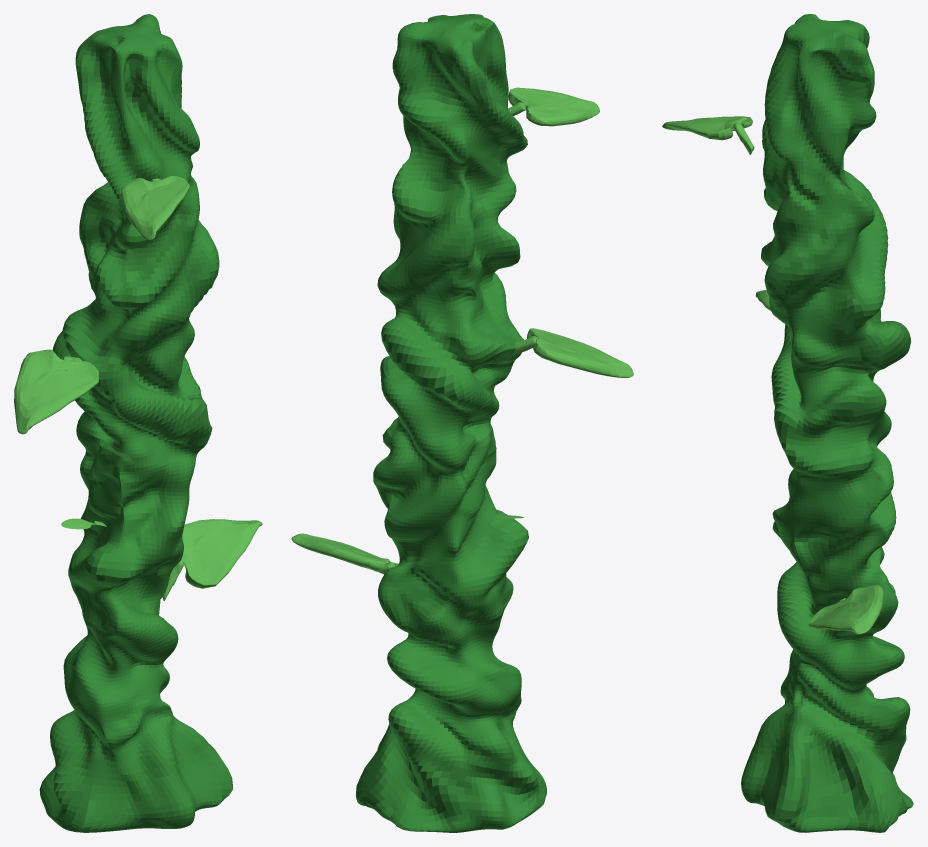
3 renders of one model, left to right at view 1: azimuth 30°, elevation 25°; view 2: azimuth 150°, elevation 25°; view 3: azimuth 270°, elevation 25°, orthographic.
Parts seen in each view (by area): view 1: Cube, 구체.002, 구체, 구체.001; view 2: Cube, 구체.002, 구체.001, 구체; view 3: Cube, 구체, 구체.001.
Part boxes in pixels (bbox=[...]): Cube: bbox=[39, 14, 233, 832]; 구체.002: bbox=[14, 349, 98, 434]; 구체: bbox=[162, 519, 262, 600]; 구체.001: bbox=[120, 176, 189, 239]; Cube: bbox=[356, 14, 546, 832]; 구체.002: bbox=[506, 328, 633, 377]; 구체.001: bbox=[508, 87, 599, 126]; 구체: bbox=[291, 533, 398, 574]; Cube: bbox=[741, 14, 913, 832]; 구체: bbox=[808, 585, 883, 634]; 구체.001: bbox=[662, 116, 754, 154].
Size of the model in its own units: 824 by 2104 by 617.
